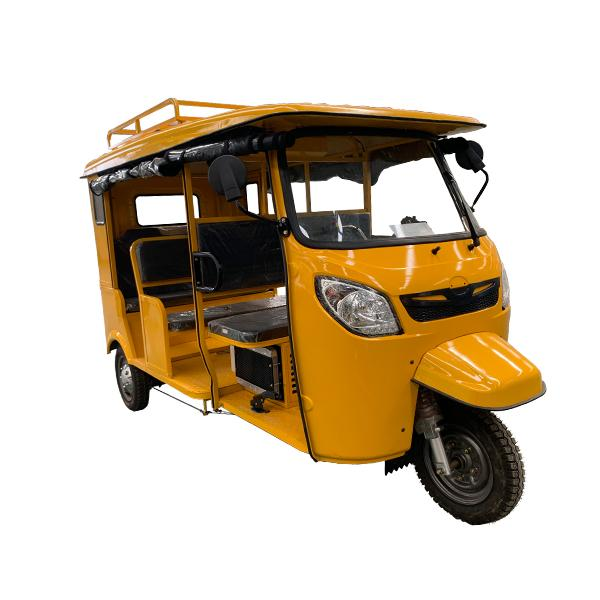threewheel: (79, 96, 547, 526)
